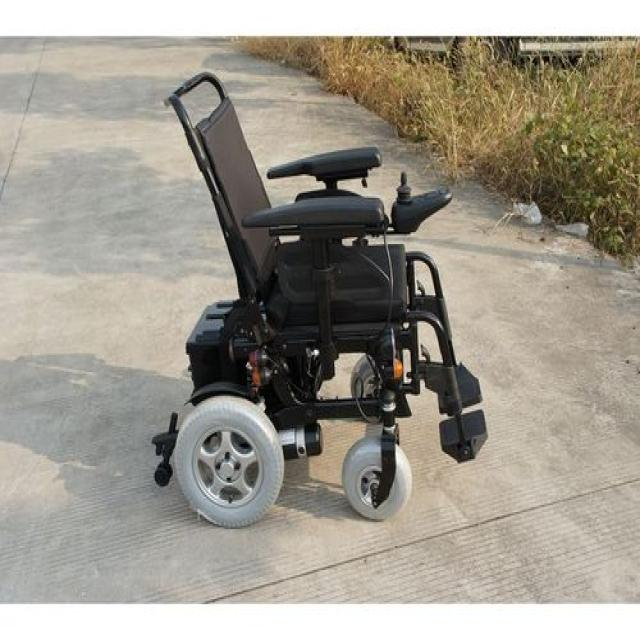wheelchairs: (149, 64, 492, 540)
